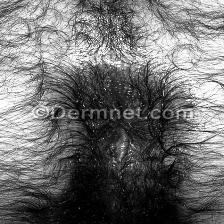Toxin: (99, 56, 156, 106)
